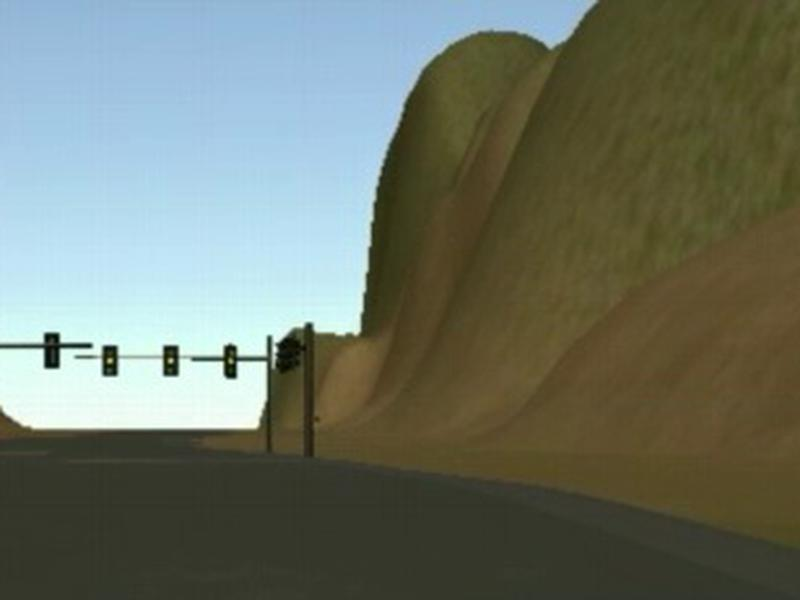Yellow: (101, 345, 117, 376), (223, 344, 237, 378), (164, 345, 177, 378)
